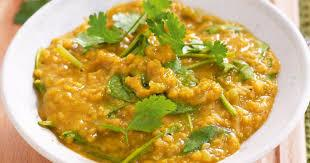Dhal Curry: (23, 5, 282, 158)
